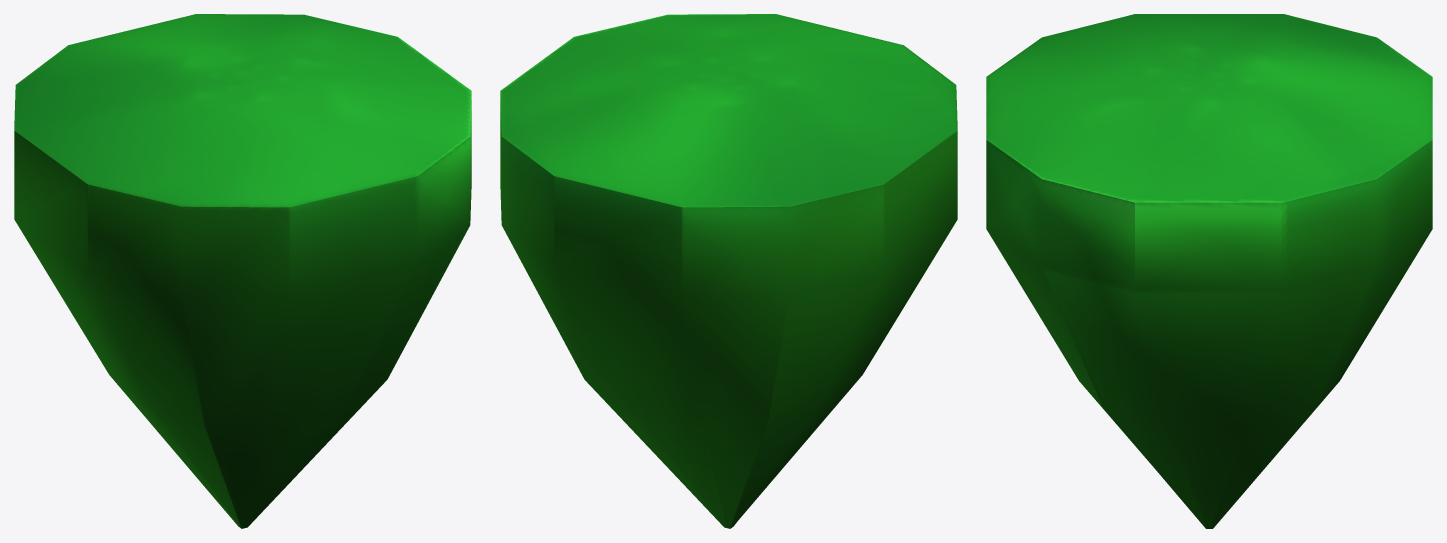
File: GemaVerdeTexReady.fbx
The picture shows the model from 3 angles, left to right: view 1: azimuth 30°, elevation 25°; view 2: azimuth 150°, elevation 25°; view 3: azimuth 270°, elevation 25°; orthographic projection.
Parts seen in each view (by area): view 1: VerdeCristal1; view 2: VerdeCristal1; view 3: VerdeCristal1.
Boxes of the visible parts, box(x1,y1,x2,y2) form: VerdeCristal1: box(14, 14, 471, 528); VerdeCristal1: box(500, 14, 957, 528); VerdeCristal1: box(986, 14, 1432, 528).
Size of the model in its own units: 1.23 by 1.37 by 1.23.
